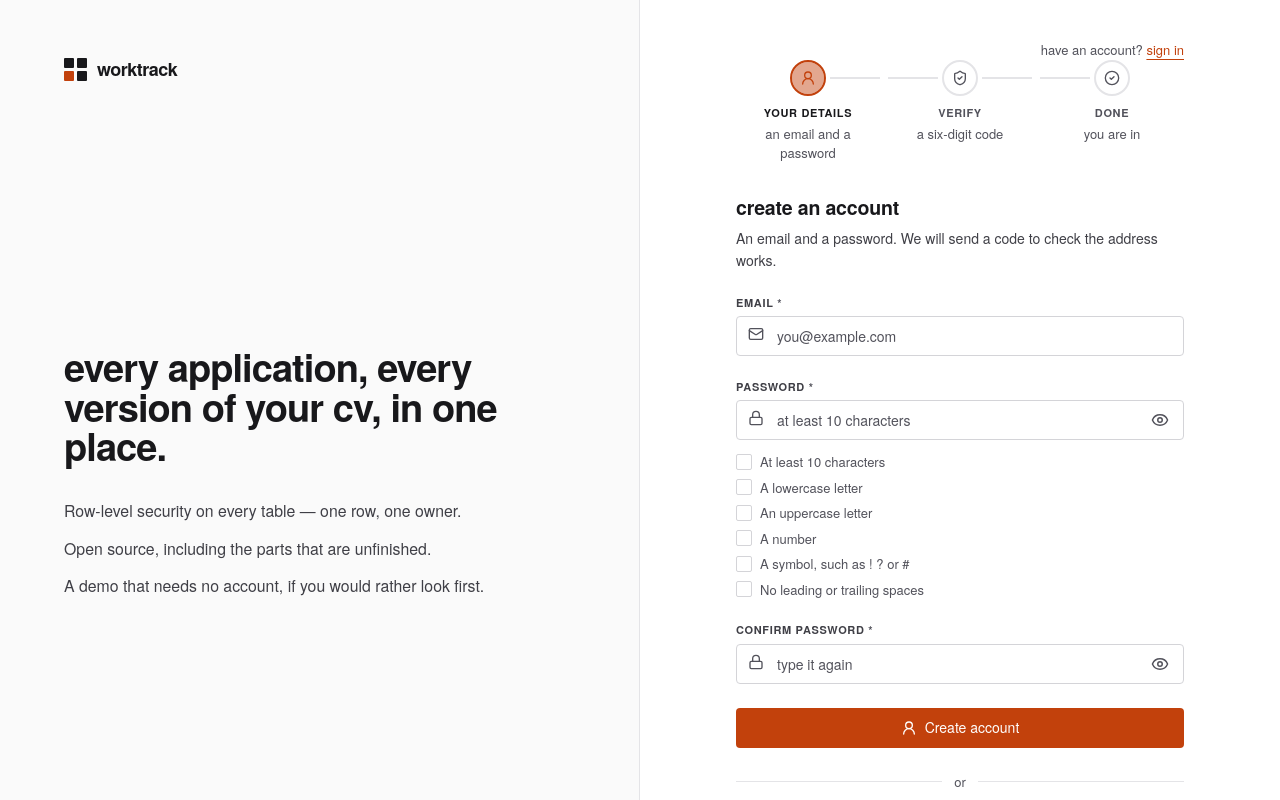
Test case: the verification step › shows the address the code went to
Step 1. Type "Gabe@Example.com" into the field labelled "Email *" → {"x": 960, "y": 336}, box [736, 316, 1184, 356]
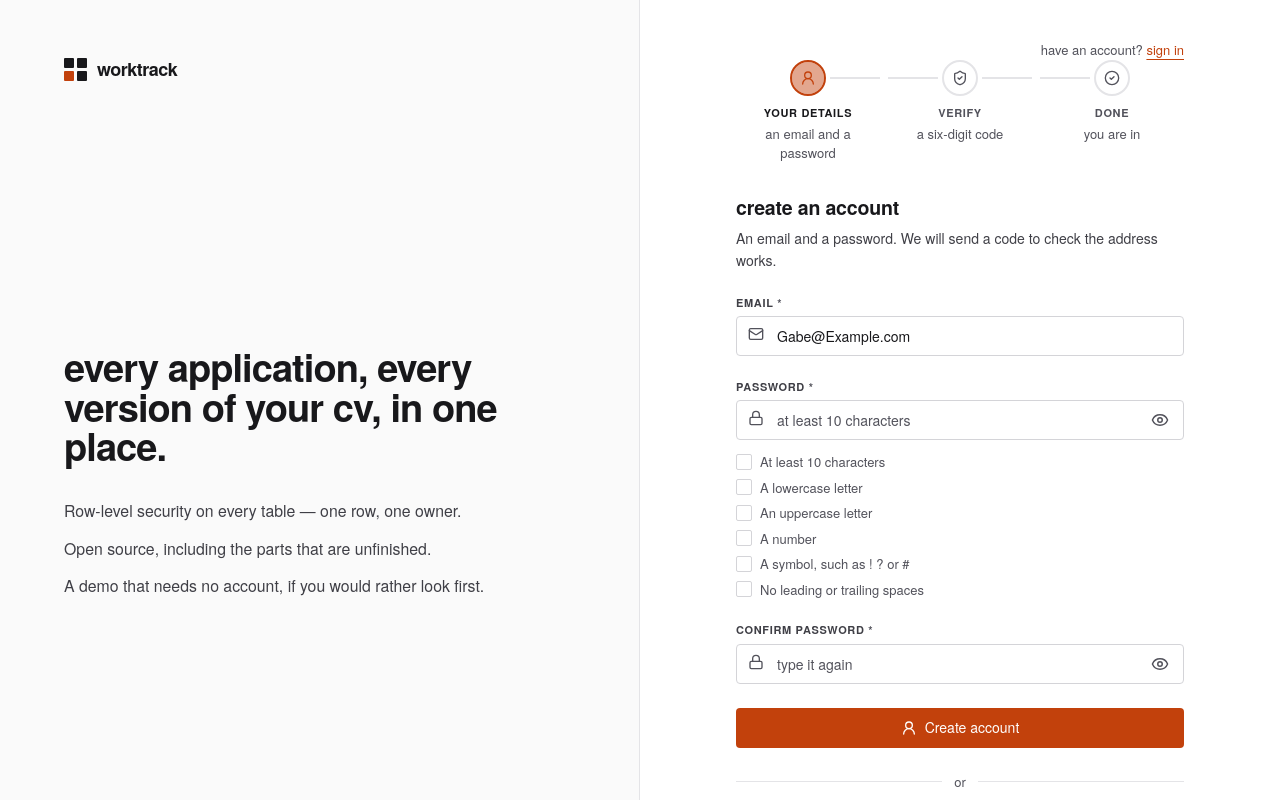
Step 2. Type "Str0ng!Passw0rd" into the password field labelled "Password *" → {"x": 960, "y": 420}, box [736, 400, 1184, 440]
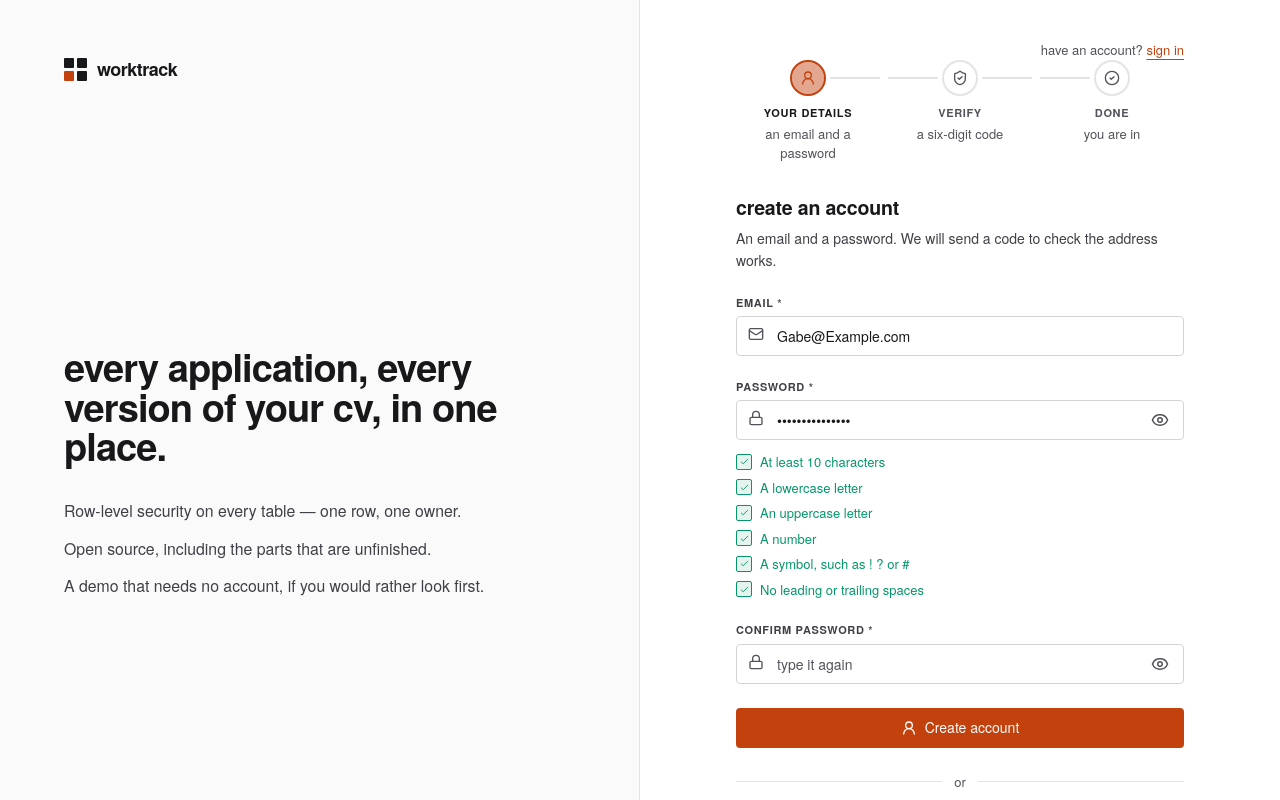
Step 3. Type "Str0ng!Passw0rd" into the password field labelled "Confirm password *" → {"x": 960, "y": 664}, box [736, 644, 1184, 684]
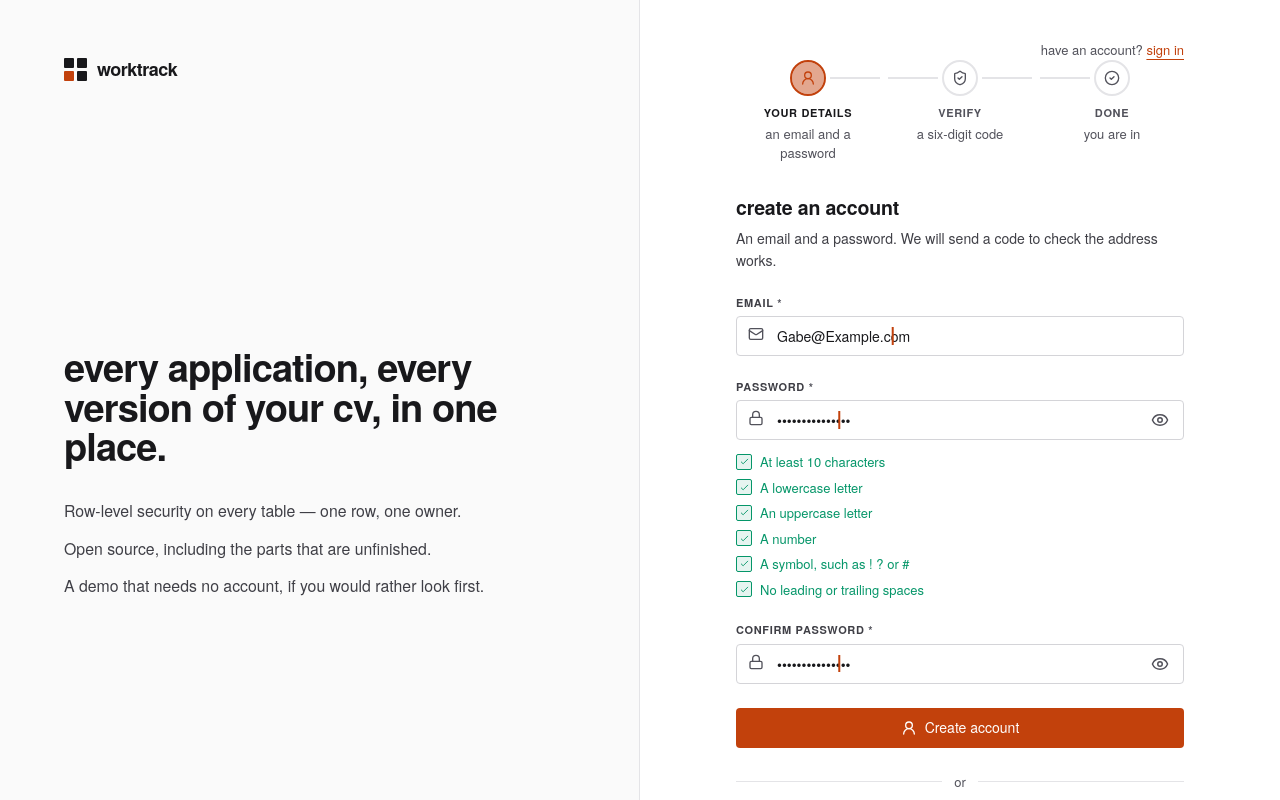
Step 4. Click the button "Create account" → {"x": 960, "y": 728}, box [736, 708, 1184, 748]
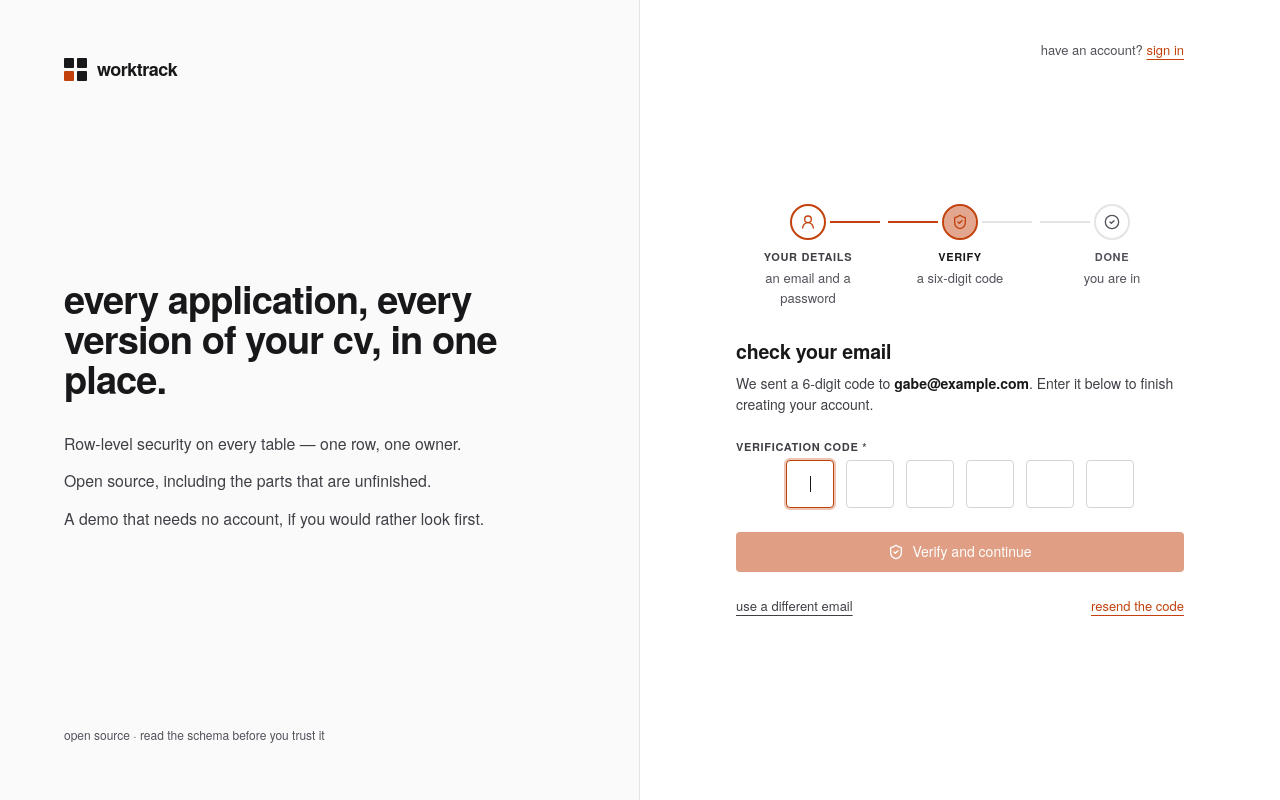
Expected: the text "gabe@example.com" is shown, [894, 372, 1029, 392]
